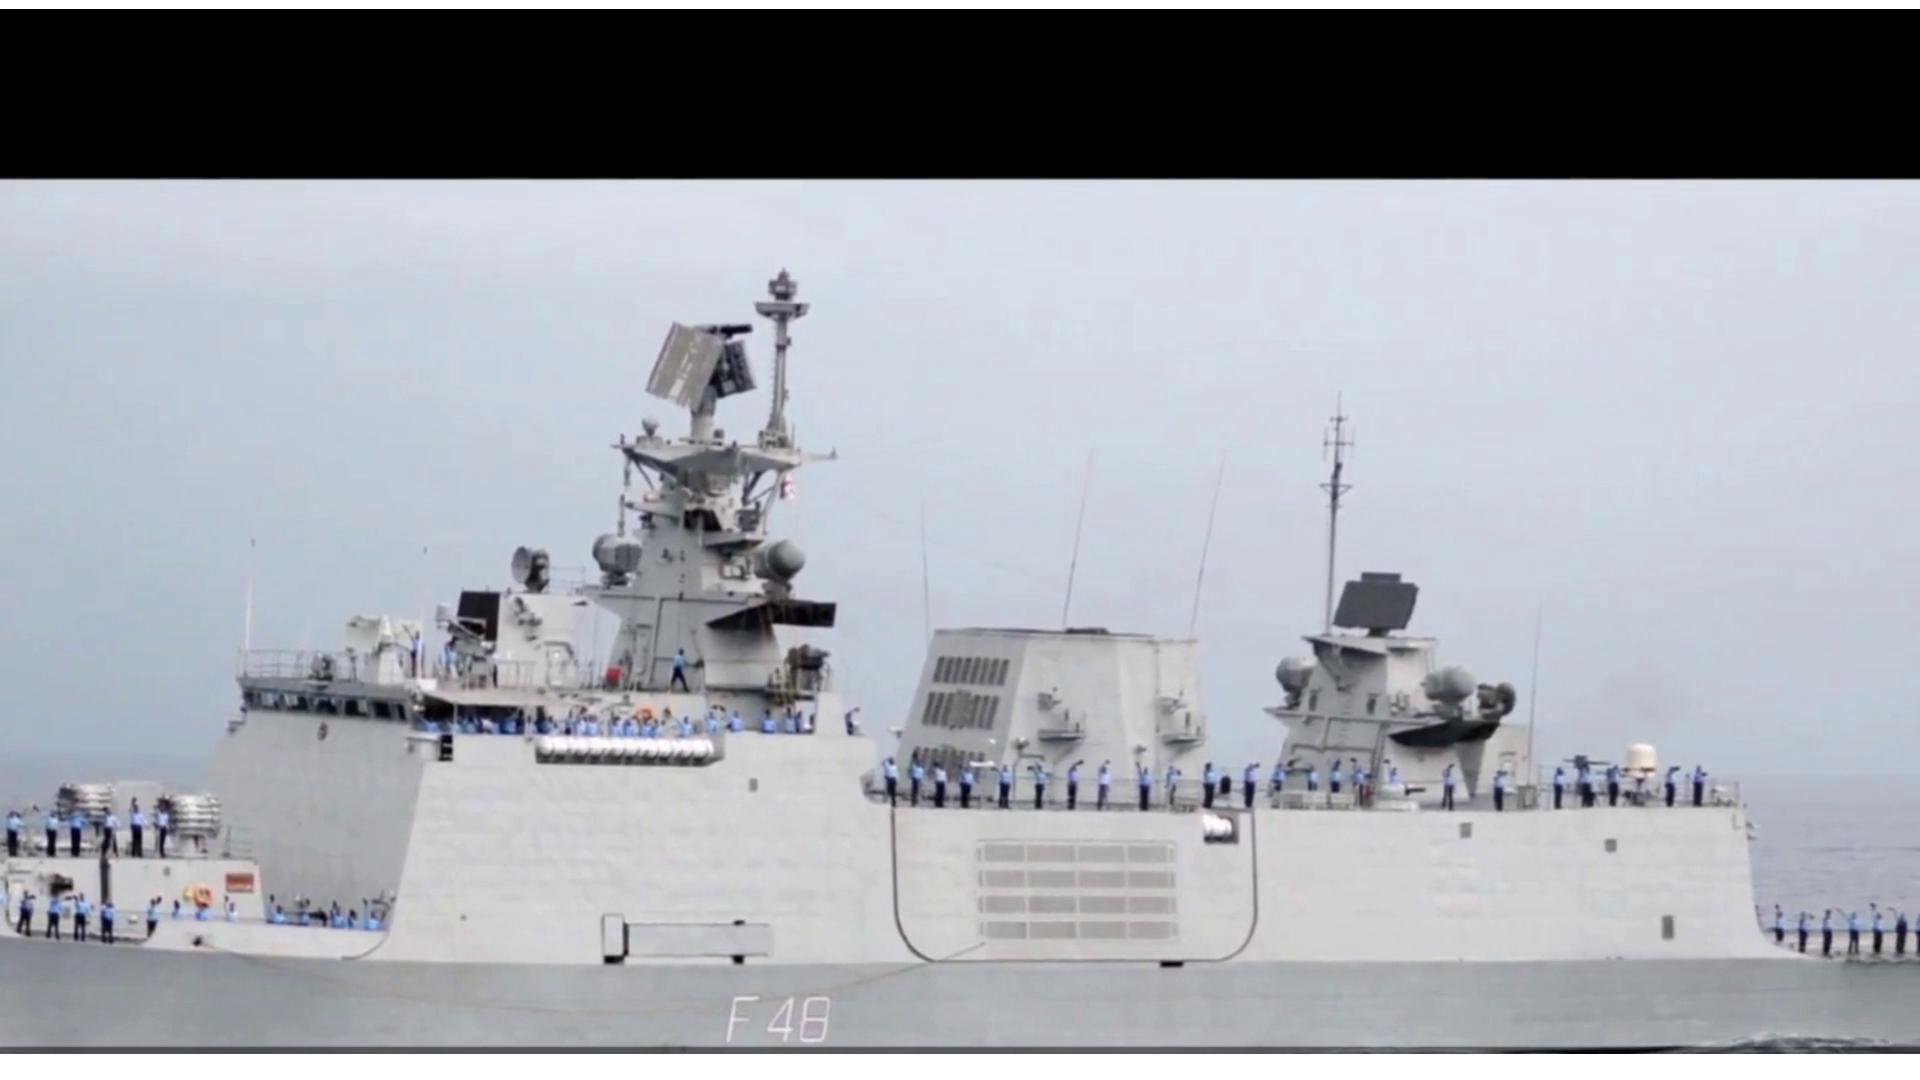OCR: (691, 989, 848, 1051)
